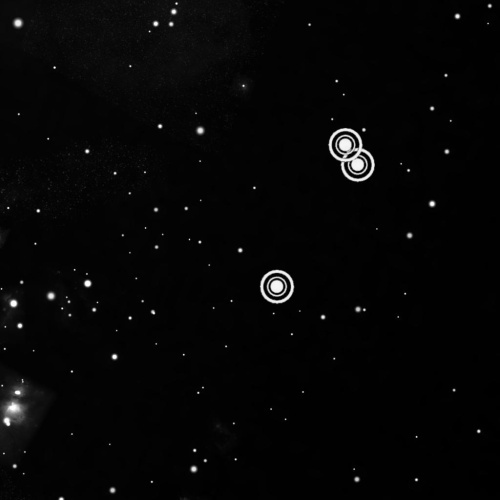canis_minor: (256, 122, 379, 313)
